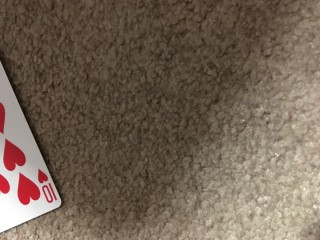TenOfHearts: (1, 59, 64, 231)
